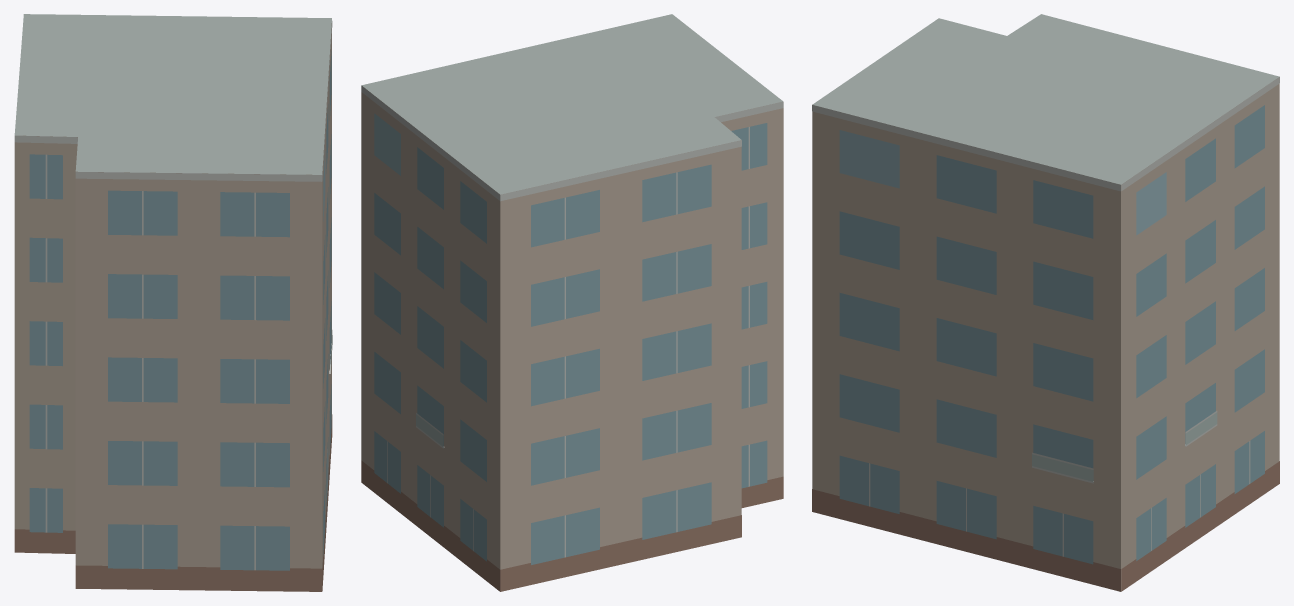
File: survey-upis-32955251.glb
The picture shows the model from 3 angles, left to right: view 1: azimuth 30°, elevation 25°; view 2: azimuth 150°, elevation 25°; view 3: azimuth 270°, elevation 25°; orthographic projection. The views are drawn at different scales.
Parts seen in each view (by area): view 1: survey-upis-32955251.tmp; view 2: survey-upis-32955251.tmp; view 3: survey-upis-32955251.tmp.
Boxes of the visible parts, left/top/right/bottom form: survey-upis-32955251.tmp: left=14, top=14, right=332, bottom=591; survey-upis-32955251.tmp: left=361, top=14, right=783, bottom=591; survey-upis-32955251.tmp: left=812, top=14, right=1279, bottom=591.
Size of the model in its own units: 13.23 by 14.7 by 15.31.
